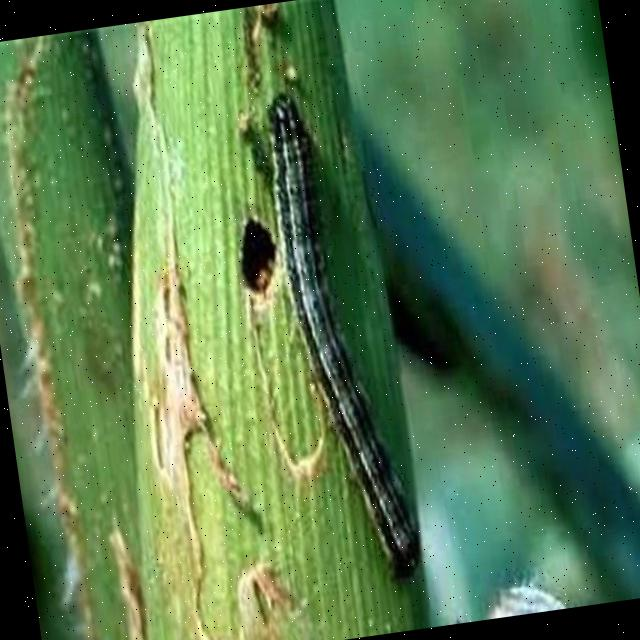worm: (261, 85, 431, 595)
